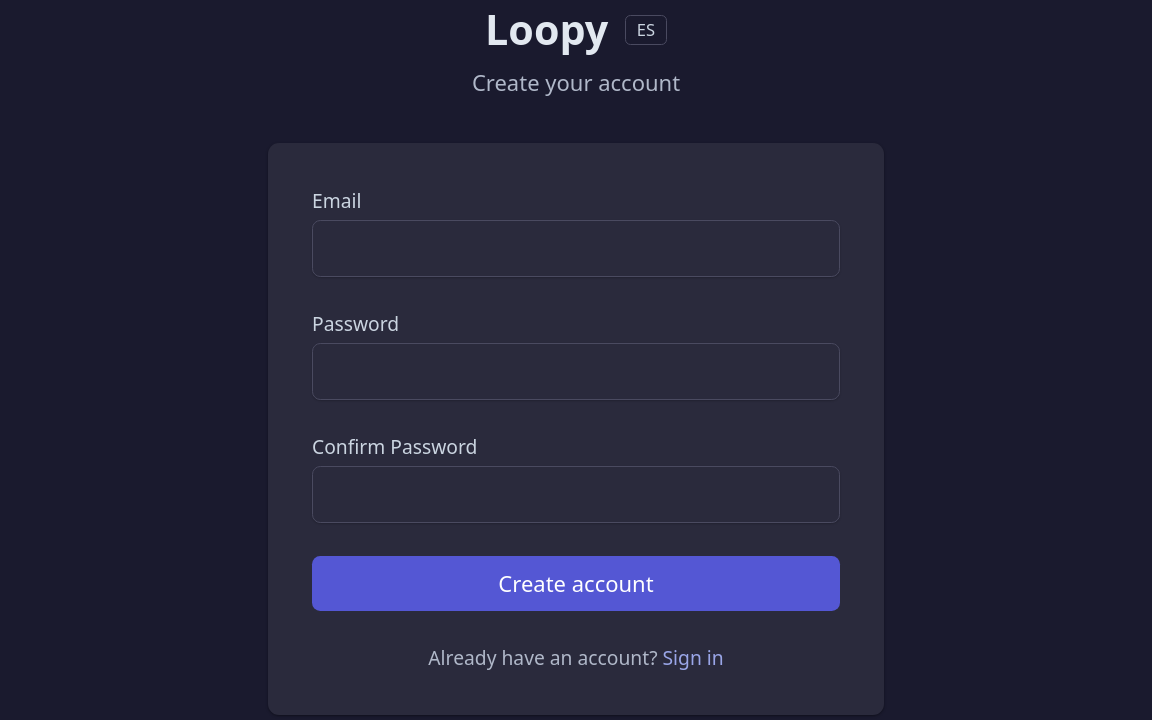
Test: Router / Navigation Tests › Redirect after login › redirects to dashboard after successful registration
Type "new@example.com" into the field labelled "Email" at (576,248), box [312, 220, 840, 276]
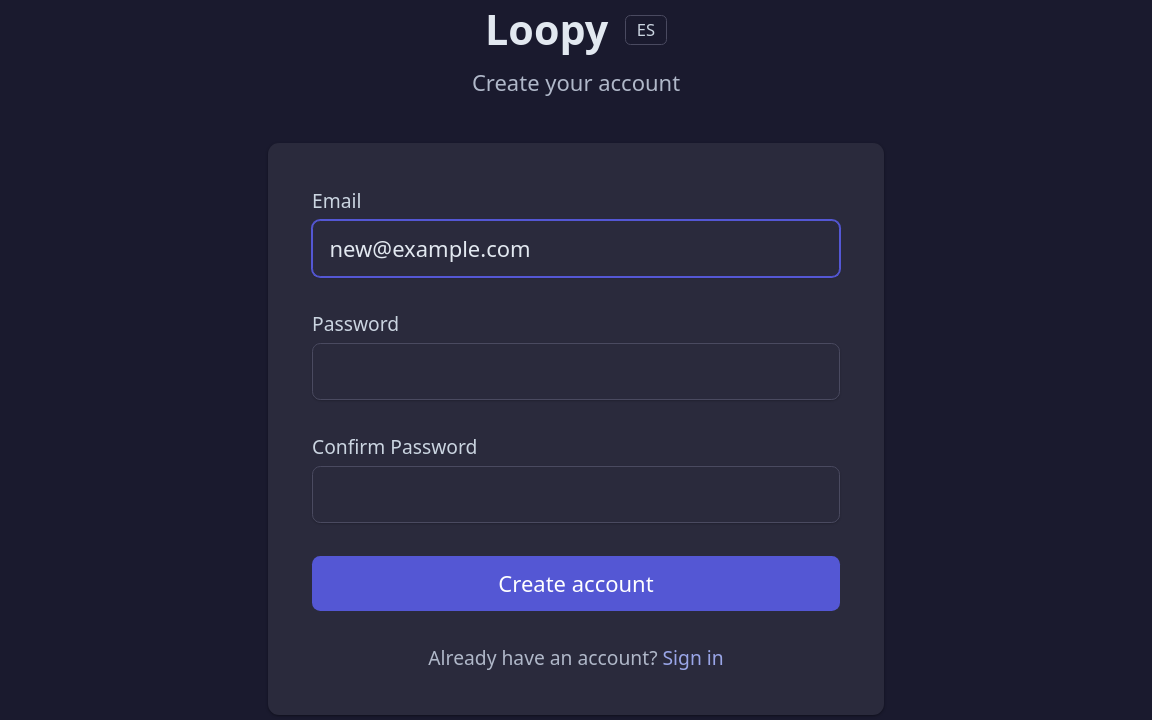
Type "password123" into the password field labelled "Password" at (576,371), box [312, 342, 840, 400]
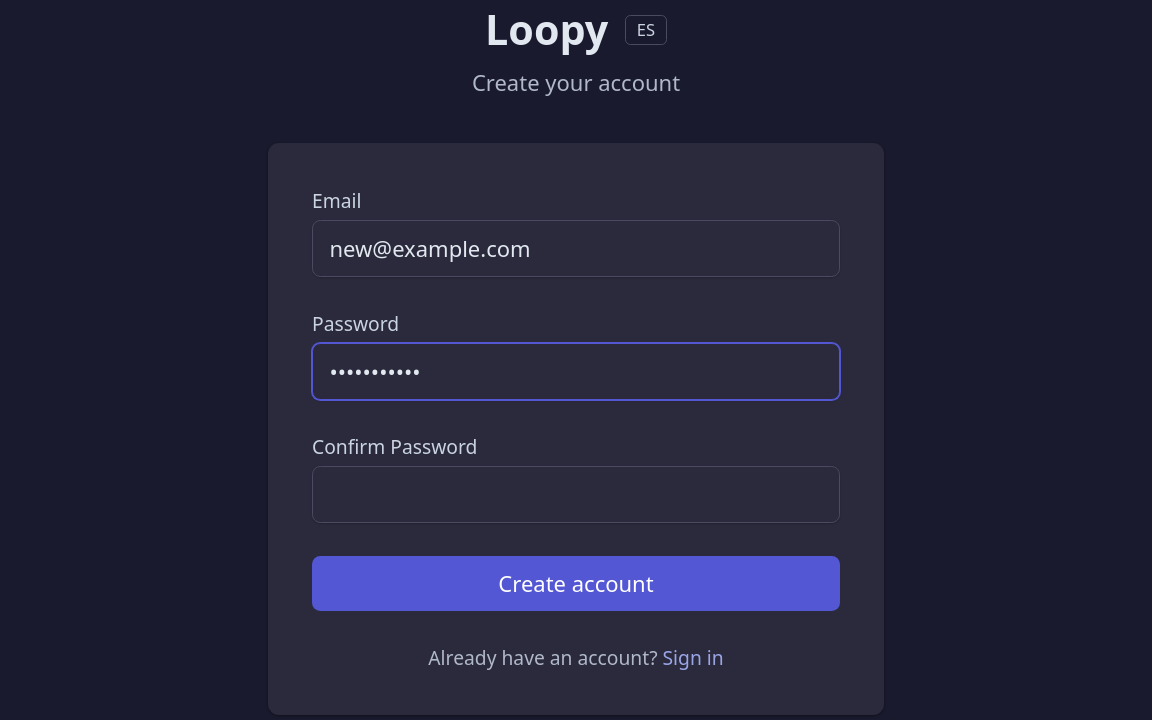
Type "password123" into the password field labelled "Confirm Password" at (576,494), box [312, 466, 840, 522]
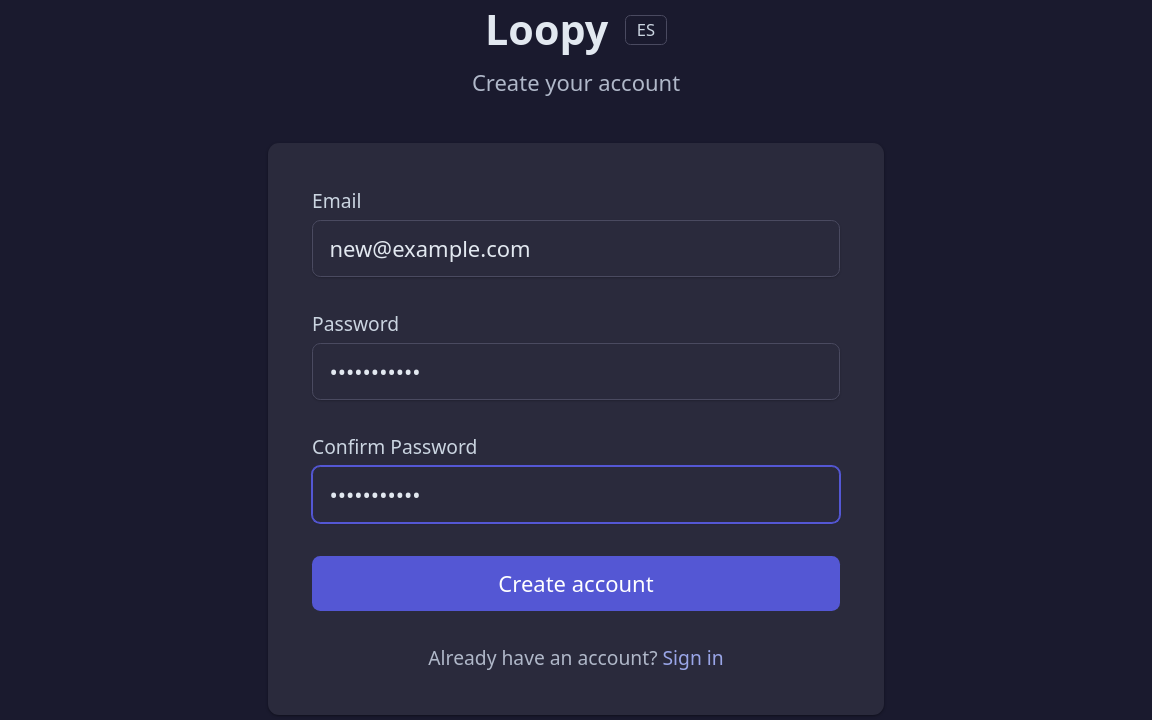
Click the button "Create account" at (576,583), box [312, 556, 840, 610]
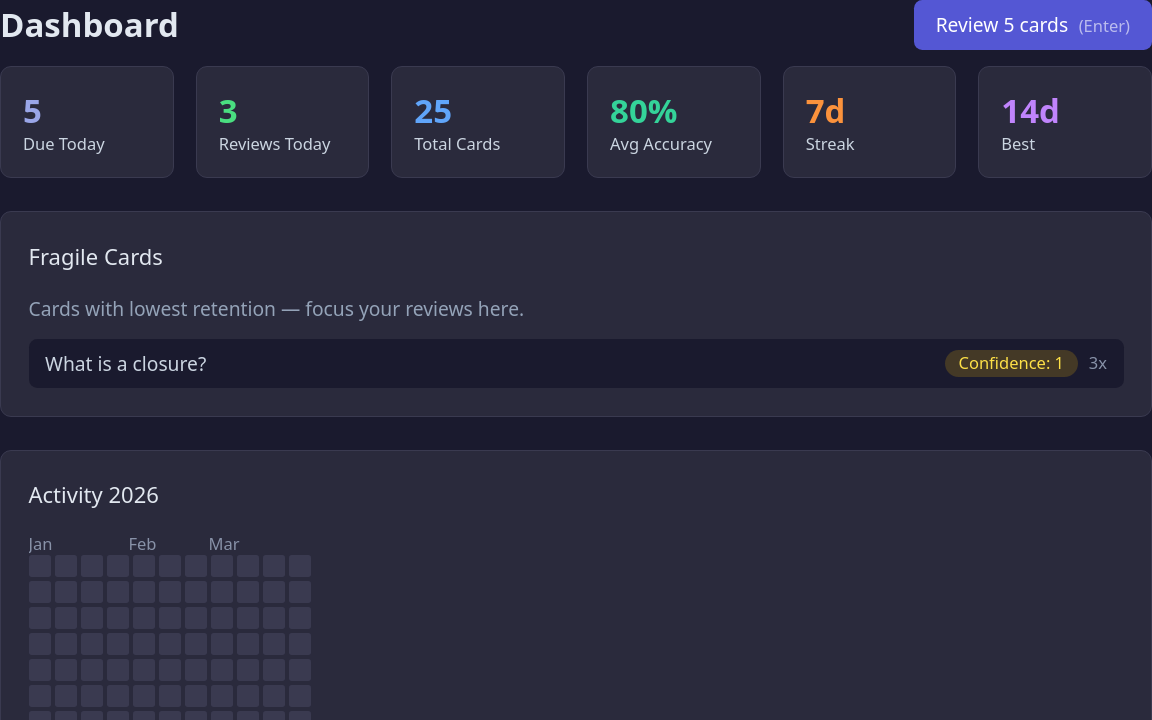
Result: the heading "Dashboard" is shown at [0, 3, 179, 47]
